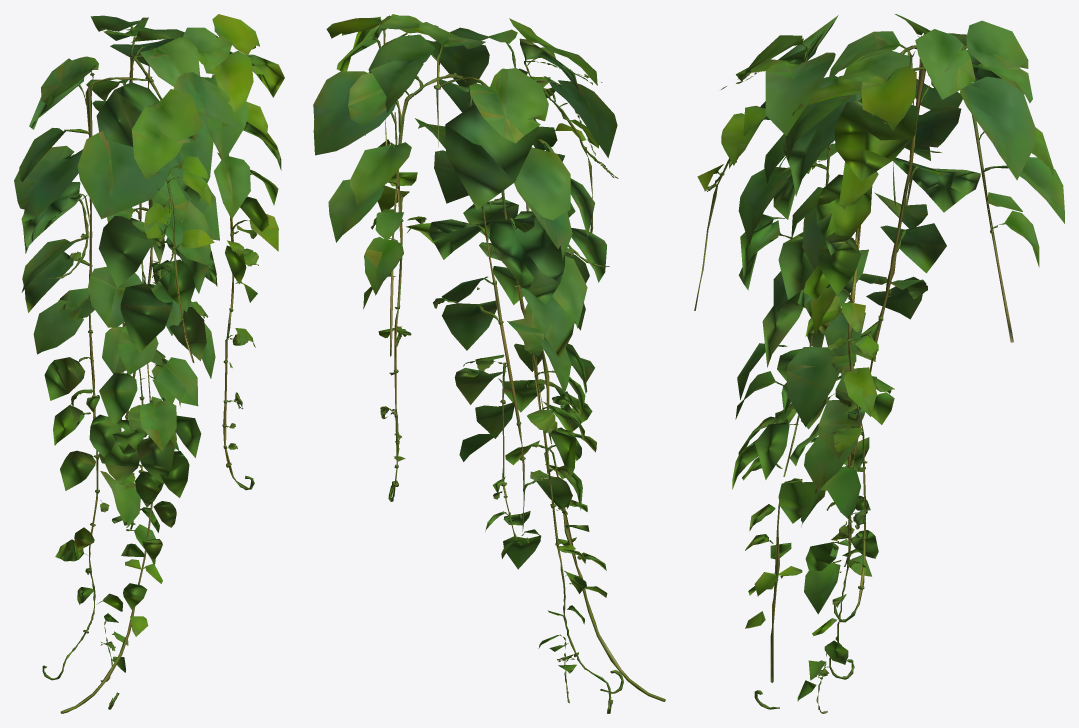
File: vine-branch.lod1.glb
3 views of the same model, side by side, from view 1: azimuth 30°, elevation 25°; view 2: azimuth 150°, elevation 25°; view 3: azimuth 270°, elevation 25° (orthographic). The views are drawn at different scales.
Visible parts, largest first — view 1: Object_4; view 2: Object_4; view 3: Object_4.
Part boxes in pixels (box(x1,y1,x2,y2)): Object_4: box(14, 14, 284, 713); Object_4: box(313, 14, 665, 713); Object_4: box(694, 14, 1064, 713).
Bounding box in the file's own units: 1.29 × 3 × 1.37.
Materials: 1 (1 with a texture image).
